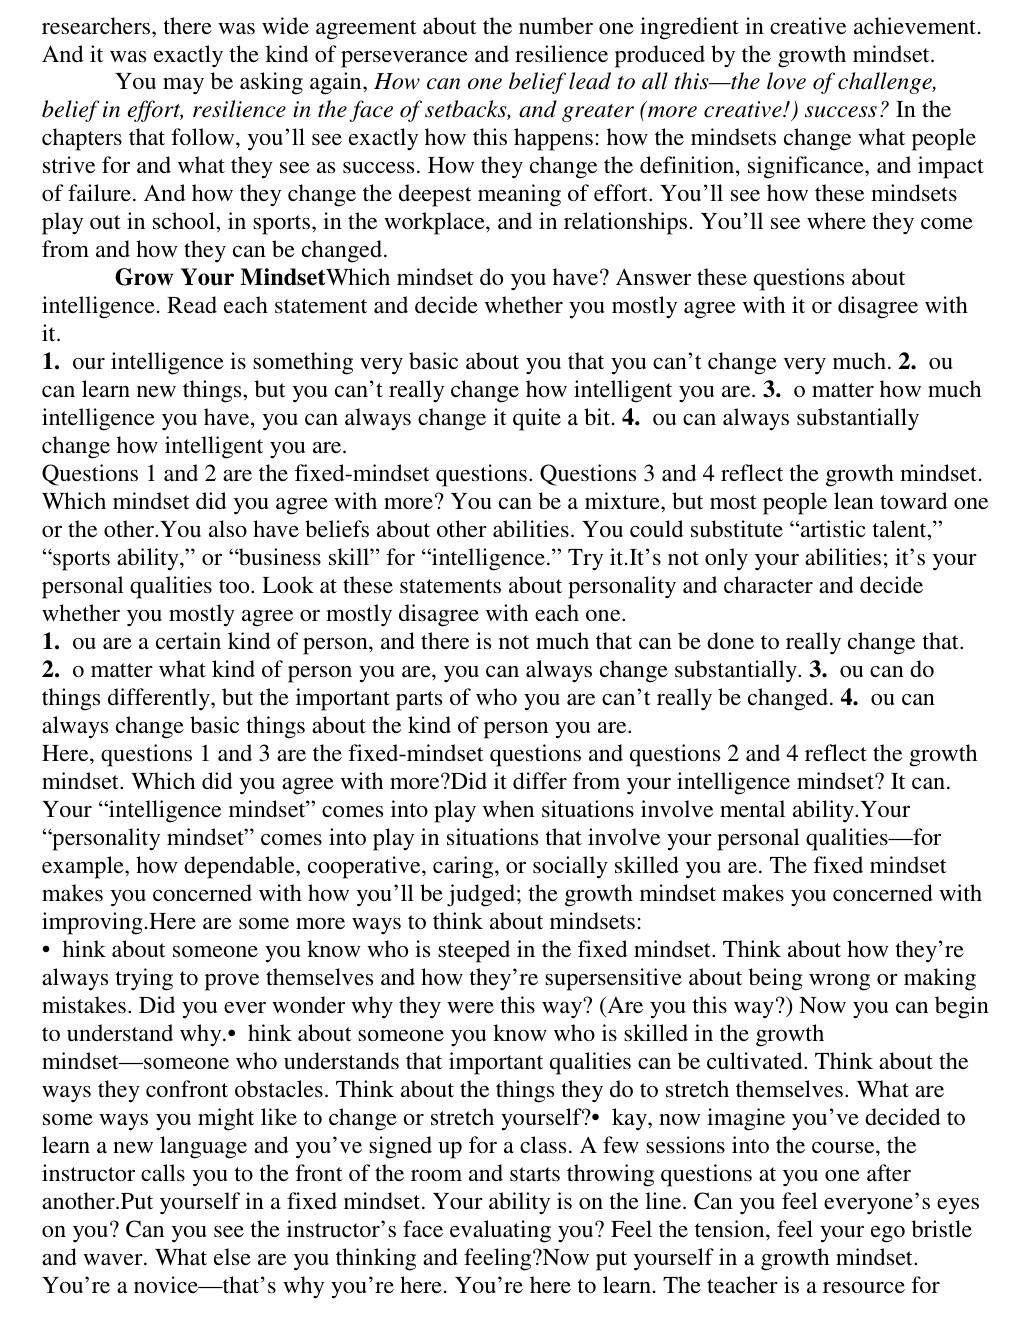latin: (39, 621, 984, 932), (35, 1052, 980, 1300), (41, 67, 988, 263), (33, 458, 988, 621), (38, 345, 982, 458), (41, 940, 993, 1052), (33, 263, 970, 345), (39, 14, 982, 67)
